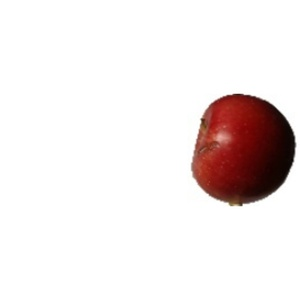maçã braeburn: (189, 91, 297, 203)
